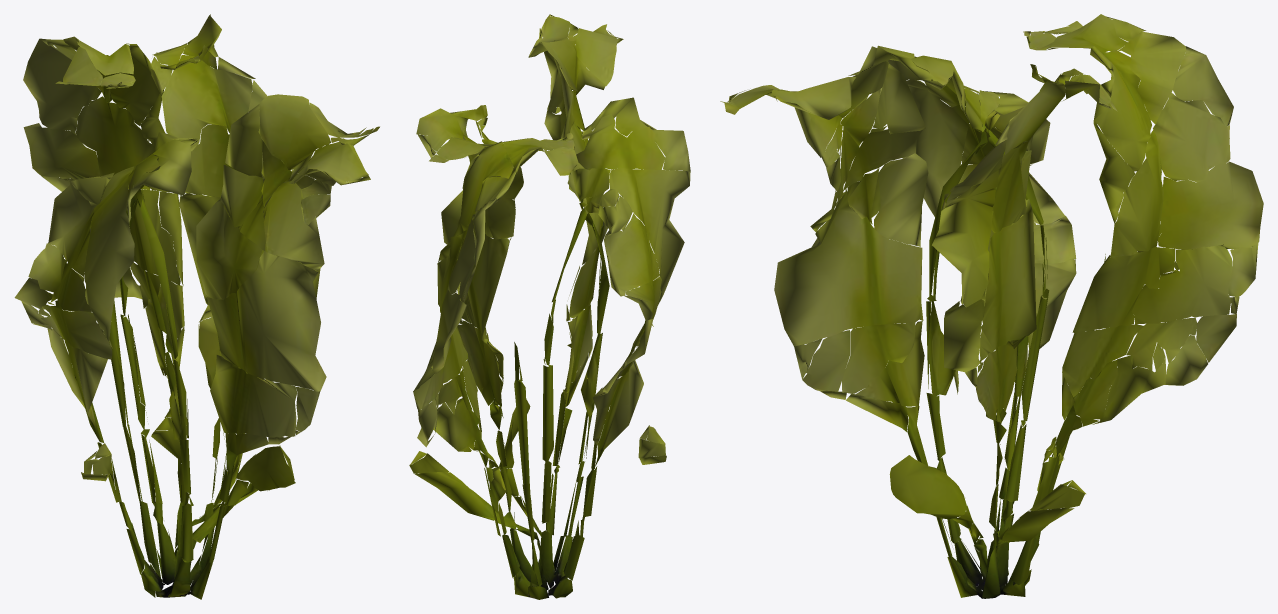
Rendered from kelp-cluster.glb.
3 views of the same model, side by side, from view 1: azimuth 30°, elevation 25°; view 2: azimuth 150°, elevation 25°; view 3: azimuth 270°, elevation 25° (orthographic). The views are drawn at different scales.
Visible parts, largest first — view 1: tripo_node_4c5e82fc-38cb-4965-8603-bb372132bbcf; view 2: tripo_node_4c5e82fc-38cb-4965-8603-bb372132bbcf; view 3: tripo_node_4c5e82fc-38cb-4965-8603-bb372132bbcf.
Part boxes in pixels (left/top/right/bottom): tripo_node_4c5e82fc-38cb-4965-8603-bb372132bbcf: left=14, top=14, right=379, bottom=599; tripo_node_4c5e82fc-38cb-4965-8603-bb372132bbcf: left=409, top=14, right=690, bottom=599; tripo_node_4c5e82fc-38cb-4965-8603-bb372132bbcf: left=720, top=14, right=1263, bottom=598.
Size of the model in its own units: 0.5139 by 0.9962 by 0.8795.
1 material, 1 textured.
